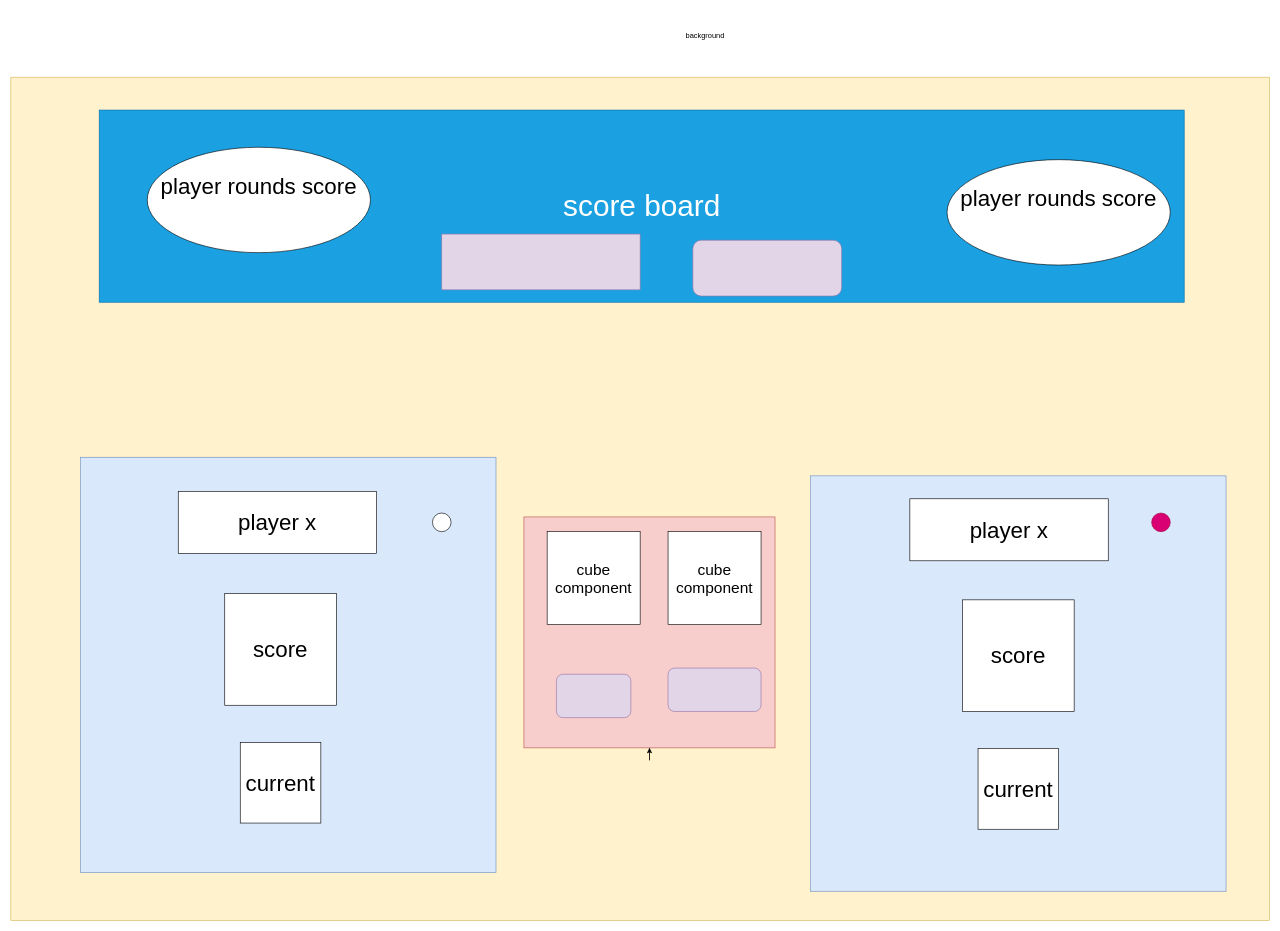
Image size: 1280x931. Some labels were removed from this diagram. Here are the shapes that lost their labels. From the top down, the centre of each, then its label:
At (540,261): "new game btn".
At (767,268): "current limit".
At (593,696): "hold".
At (714,689): "roll dice".
